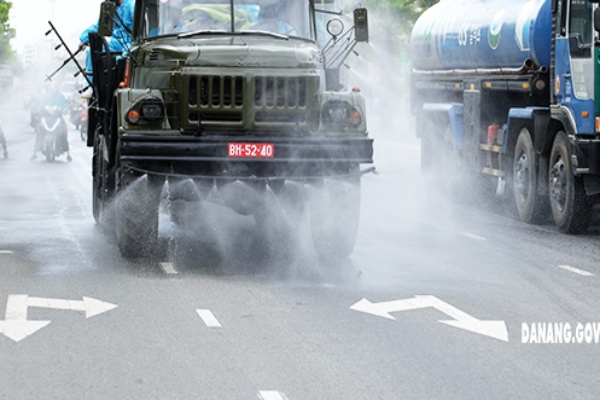plate: (228, 142, 275, 160)
